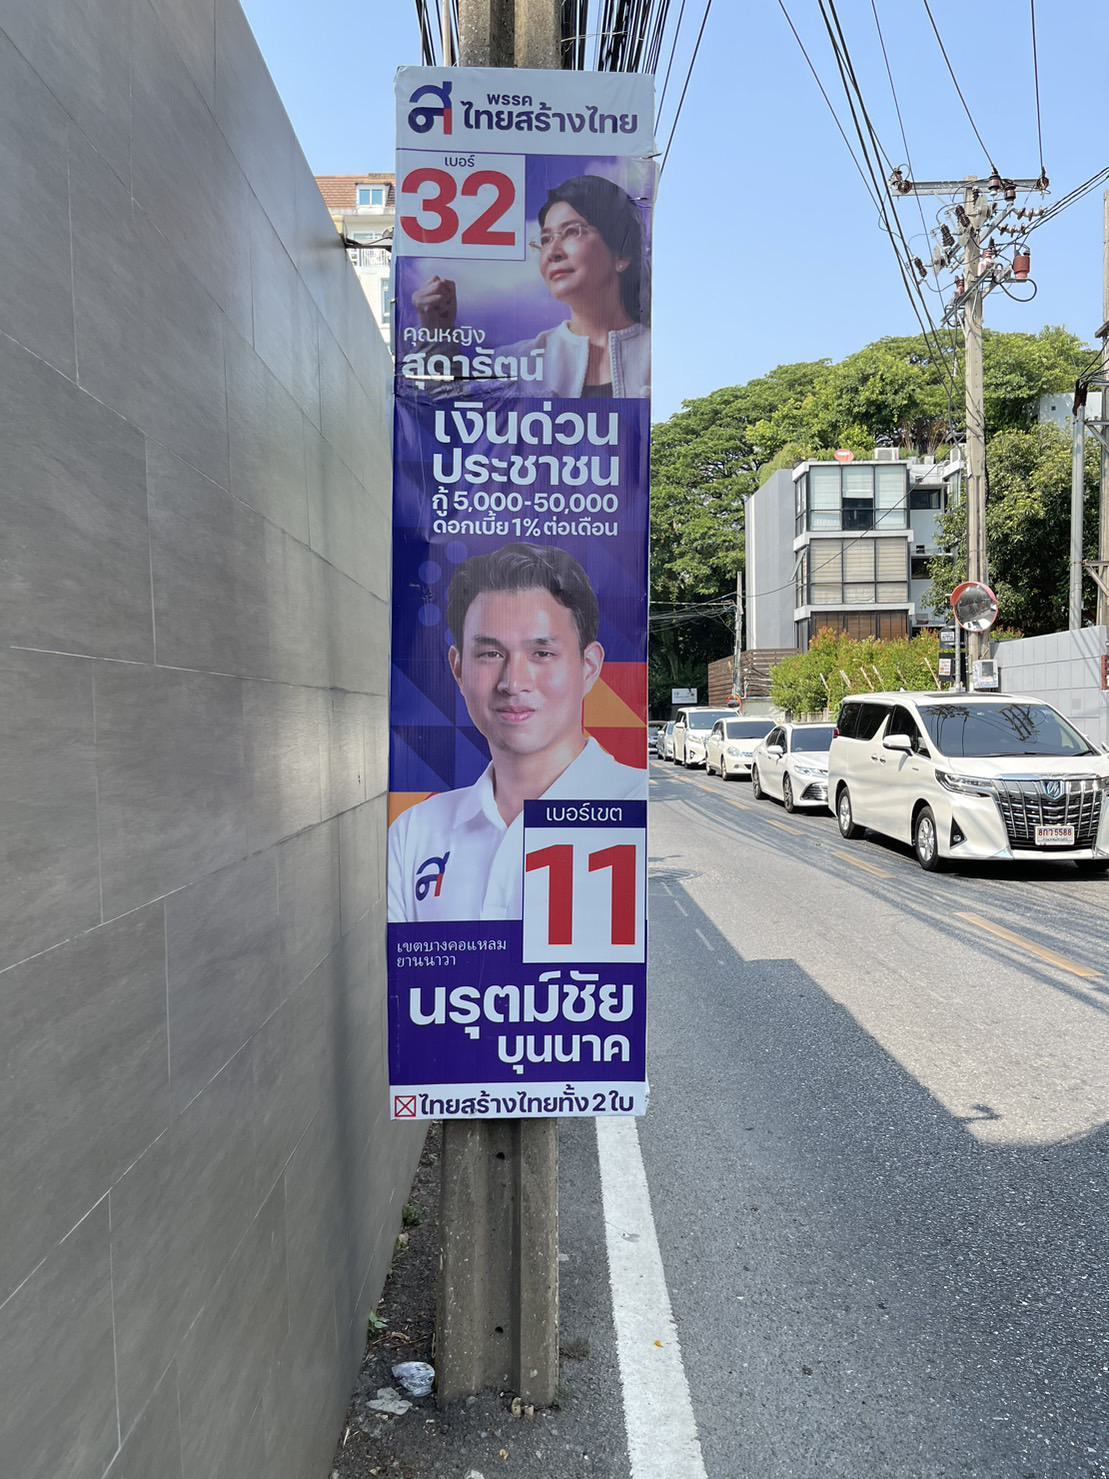Banner: (398, 57, 644, 1110)
